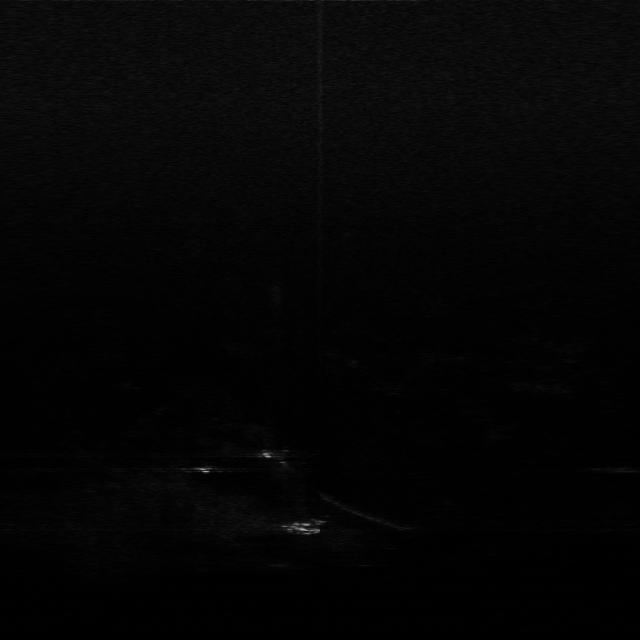rov: (276, 518, 328, 536)
